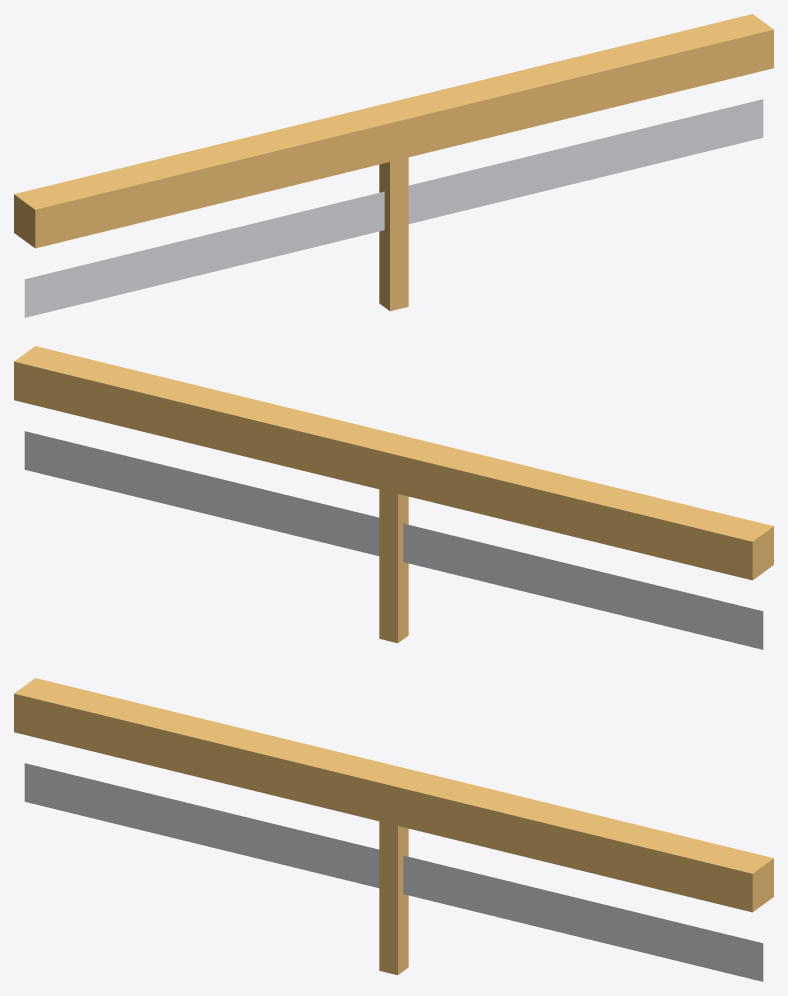
The model's file is rail_middle.gltf.
3 views of the same model, one above another, from view 1: azimuth 30°, elevation 25°; view 2: azimuth 150°, elevation 25°; view 3: azimuth 330°, elevation 25° (orthographic).
Visible parts, largest first — view 1: rail_middle; view 2: rail_middle; view 3: rail_middle.
Boxes of the visible parts, x1,y1,x2,y2 form: rail_middle: (14, 14, 773, 317); rail_middle: (14, 346, 773, 649); rail_middle: (14, 678, 773, 981).
Bounding box in the file's own units: 1 × 0.25 × 0.05.
